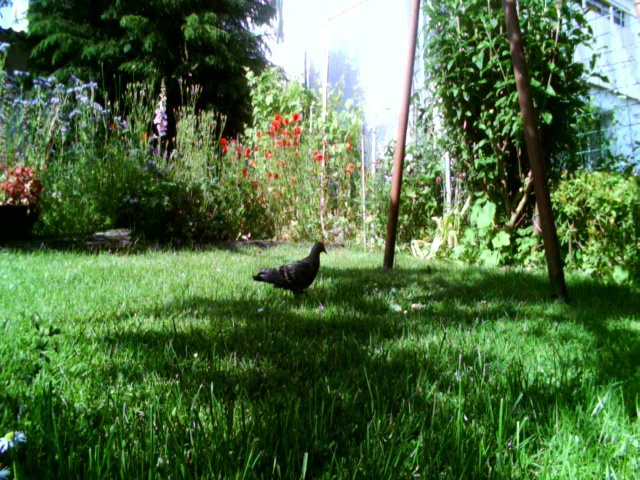Pigeon: (250, 239, 336, 301)
